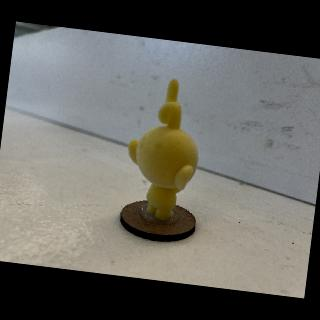teletubby: (128, 79, 198, 221)
